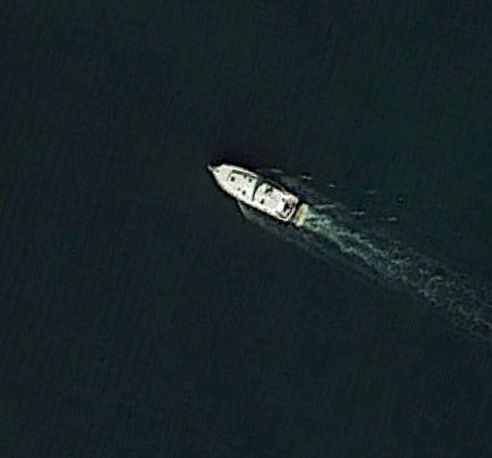boat: (207, 162, 305, 225)
